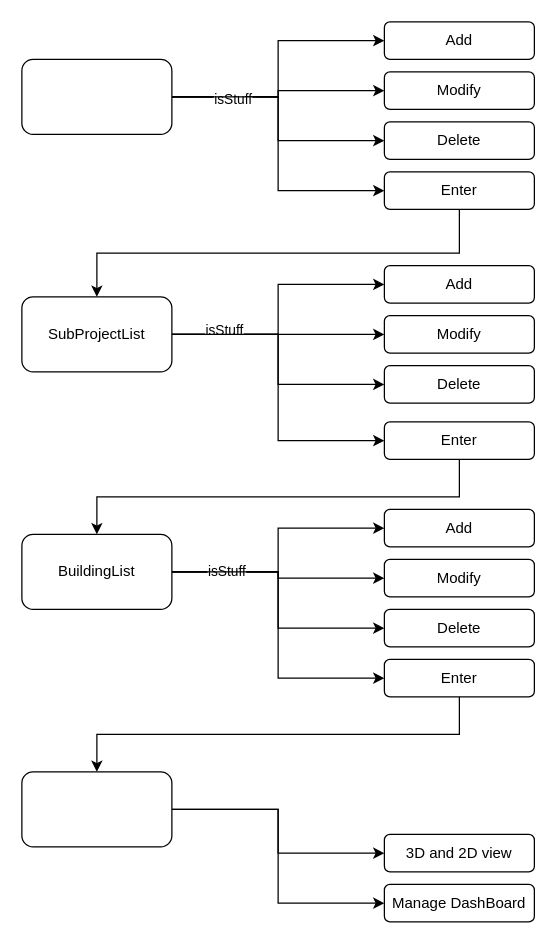
This 556x944 diagram has some shape labels left out. Each missing label, with the centre of its shape:
"BuildingView" goes at point (96, 809).
"ProjectList" goes at point (96, 96).
